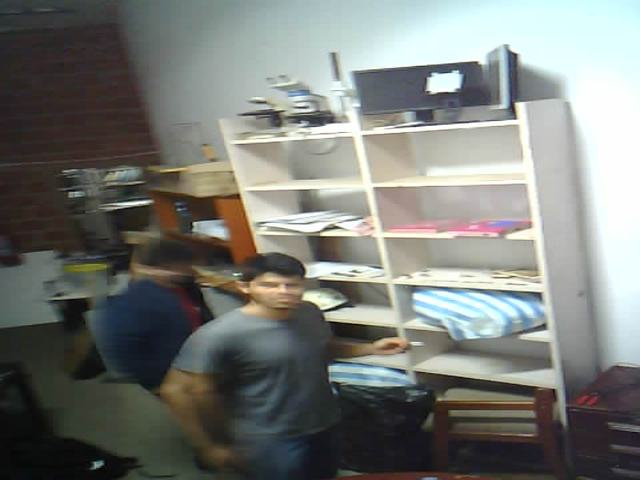person: (158, 250, 379, 480), (86, 234, 223, 400)
